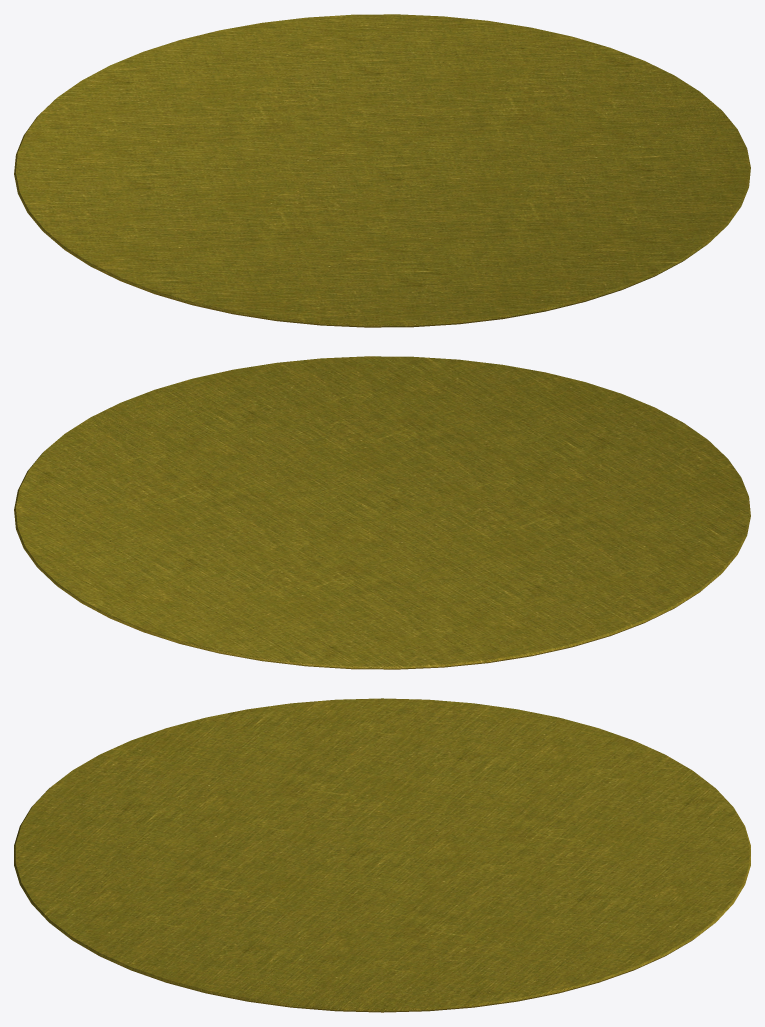
The model's file is Double Carved Trellis Rug.FBX.
3 renders of one model, top to bottom at view 1: azimuth 30°, elevation 25°; view 2: azimuth 150°, elevation 25°; view 3: azimuth 270°, elevation 25°, orthographic.
Visible parts, largest first — view 1: Double Carved Trellis Rug; view 2: Double Carved Trellis Rug; view 3: Double Carved Trellis Rug.
Part boxes in pixels (left/top/right/bottom): Double Carved Trellis Rug: left=14, top=14, right=750, bottom=327; Double Carved Trellis Rug: left=14, top=356, right=750, bottom=669; Double Carved Trellis Rug: left=14, top=698, right=750, bottom=1012.
Size of the model in its own units: 3.08 by 0.0162 by 3.07.
1 material, 1 textured.
